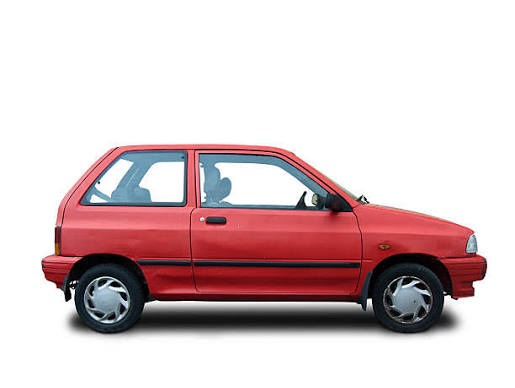car: (37, 132, 489, 338), (31, 136, 480, 337)
